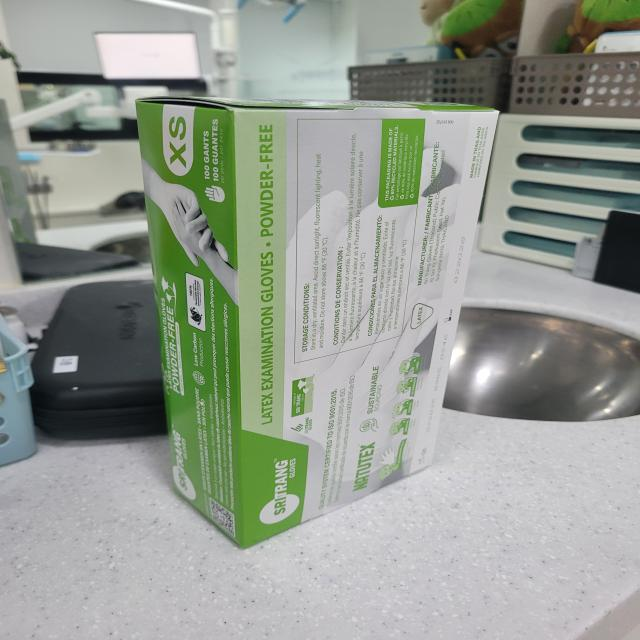glove: (102, 77, 506, 551)
